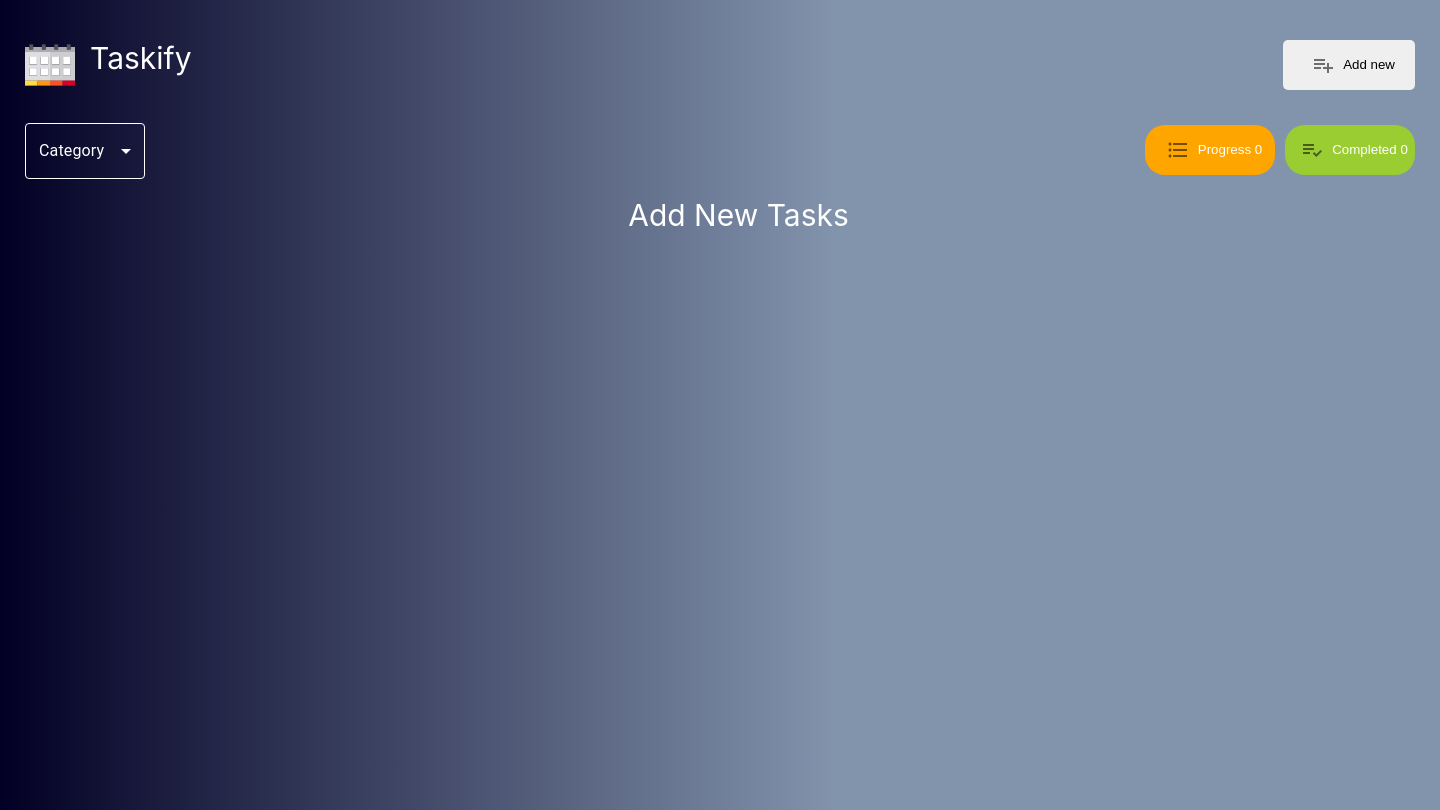
it: Check all the input feilds in dialog after clicking Add new are rendering or not
Click the button "Add new" at x=1349, y=65, box [1283, 40, 1415, 90]
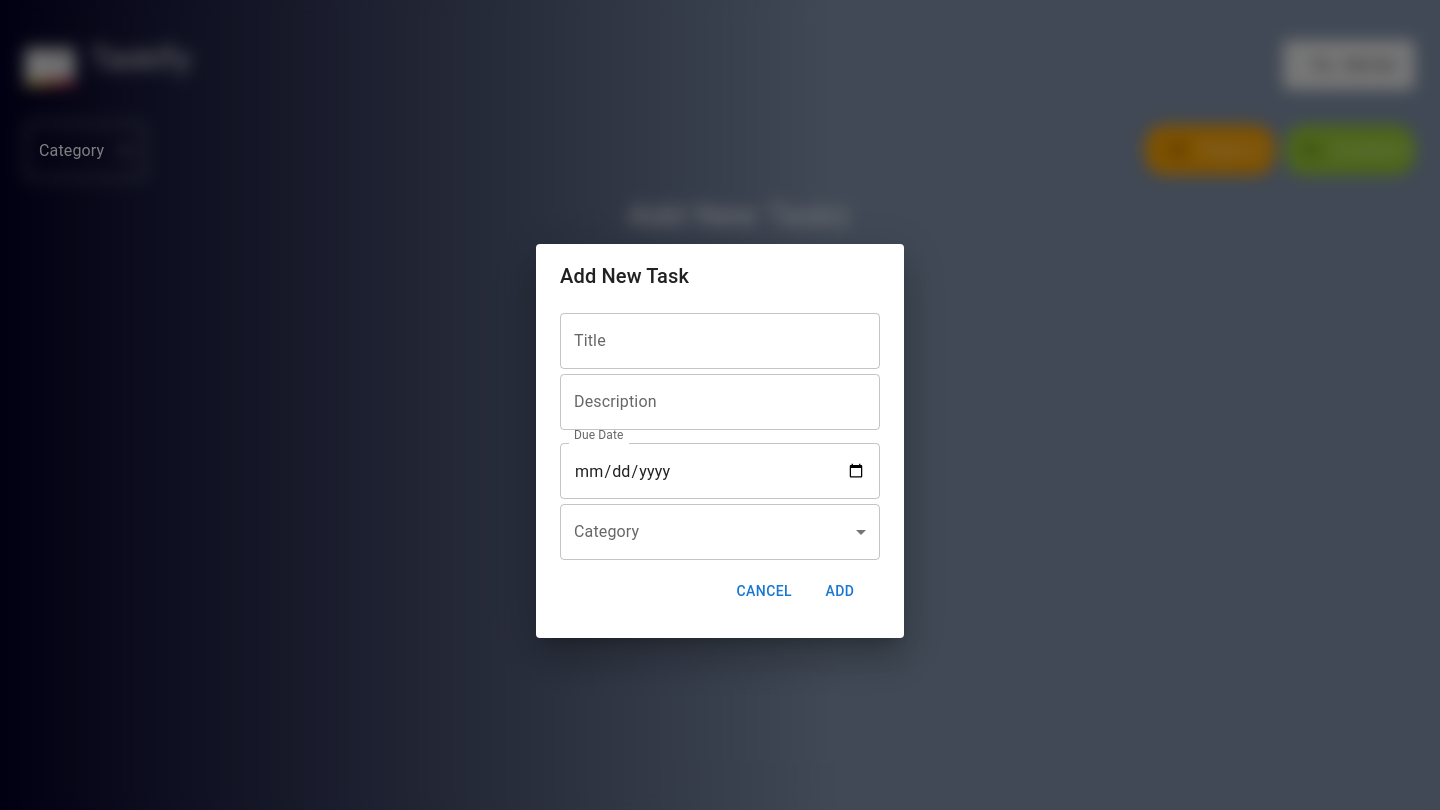
Now the field labelled "Title" is shown, box [560, 313, 880, 369]
Now the button "Cancel" is shown, box [728, 573, 800, 610]
Now the button "Add" is shown, box [808, 573, 872, 610]
